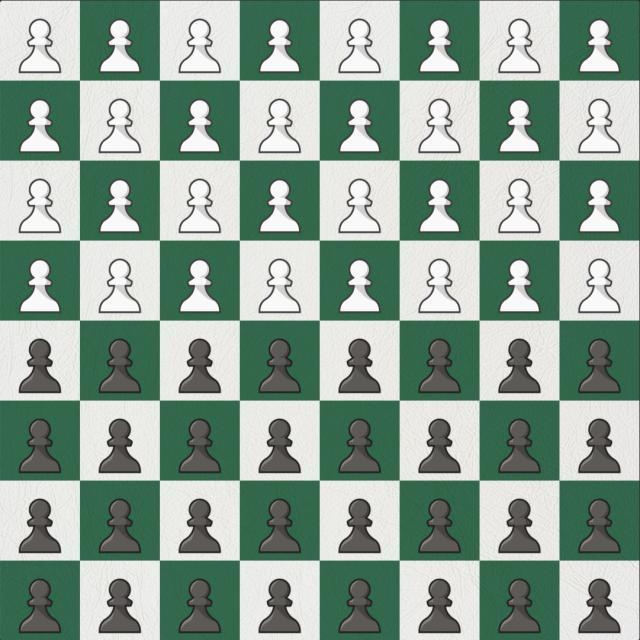black-pawn: (18, 339, 61, 394), (98, 339, 141, 394), (178, 338, 221, 393), (258, 339, 301, 394), (338, 339, 381, 394), (418, 339, 461, 394), (498, 338, 541, 393), (578, 338, 621, 393), (578, 419, 621, 474), (498, 419, 541, 474), (418, 419, 461, 474), (338, 418, 381, 473), (258, 418, 301, 473), (178, 419, 221, 474), (99, 418, 142, 473), (19, 419, 62, 474), (19, 499, 62, 554), (99, 498, 142, 553), (179, 499, 222, 554), (258, 499, 301, 554), (338, 498, 381, 553), (418, 499, 461, 554), (498, 498, 541, 553), (578, 498, 621, 553), (578, 579, 621, 634), (498, 578, 541, 633), (418, 579, 461, 634), (339, 578, 382, 633), (259, 579, 302, 634), (178, 578, 221, 633), (99, 578, 142, 633), (19, 579, 62, 634)
white-pawn: (19, 19, 62, 74), (99, 19, 142, 74), (178, 19, 221, 74), (258, 19, 301, 74), (338, 19, 381, 74), (419, 19, 462, 74), (498, 19, 541, 74), (578, 19, 621, 74), (498, 99, 541, 154), (418, 99, 461, 154), (338, 99, 381, 154), (258, 99, 301, 154), (178, 99, 221, 154), (99, 99, 142, 154), (19, 99, 62, 154), (19, 178, 62, 233), (99, 179, 142, 234), (178, 178, 221, 233), (259, 179, 302, 234), (338, 179, 381, 234), (418, 179, 461, 234), (498, 179, 541, 234), (578, 179, 621, 234), (578, 258, 621, 313), (498, 259, 541, 314), (418, 259, 461, 314), (338, 259, 381, 314), (258, 259, 301, 314), (179, 259, 222, 314), (99, 259, 142, 314), (18, 259, 61, 314), (578, 99, 621, 153)
